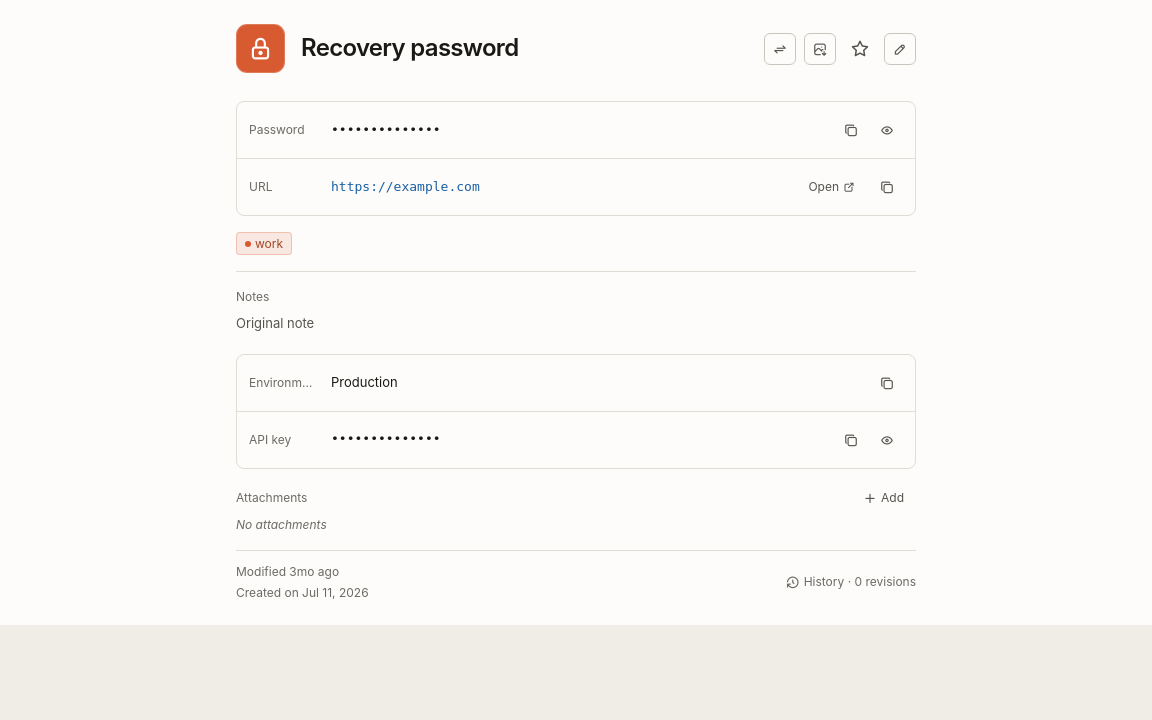
Test case: custom fields › displays and reveals protected and unprotected fields
Expected: the text "Production" is shown, [331,374,398,390]
Click the button named "Reveal api key".
click(887, 440)  # box [871,424,903,456]
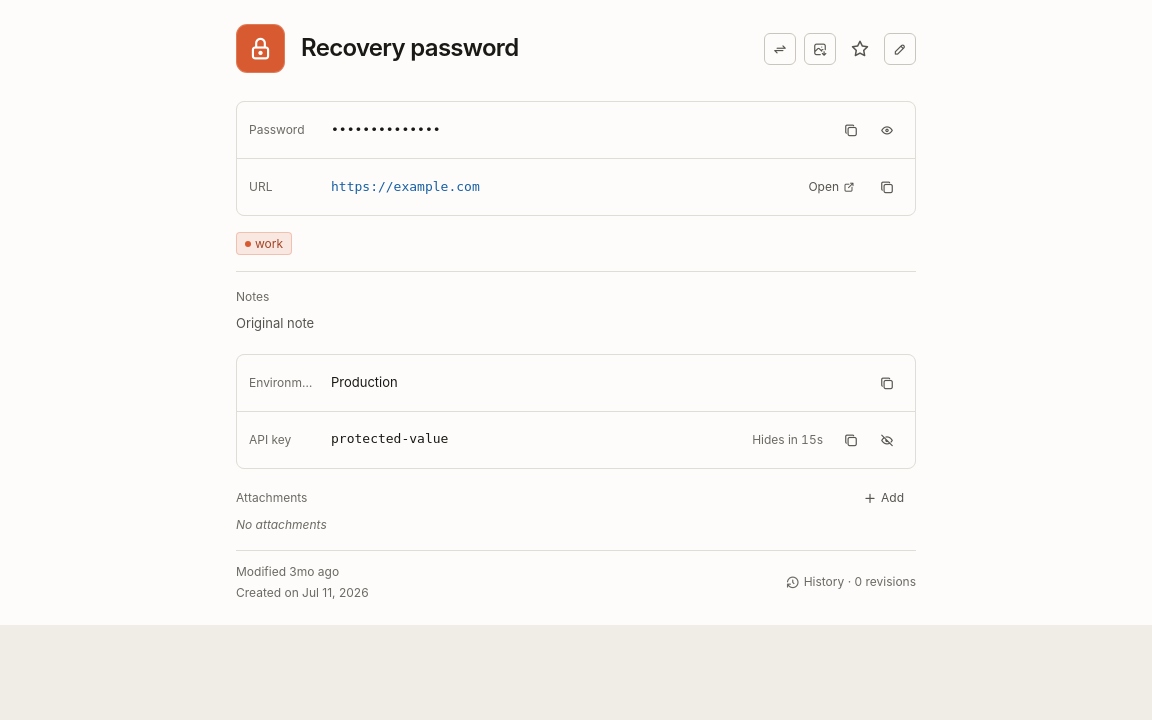
Expected: the text "protected-value" is shown, [331,432,448,446]
